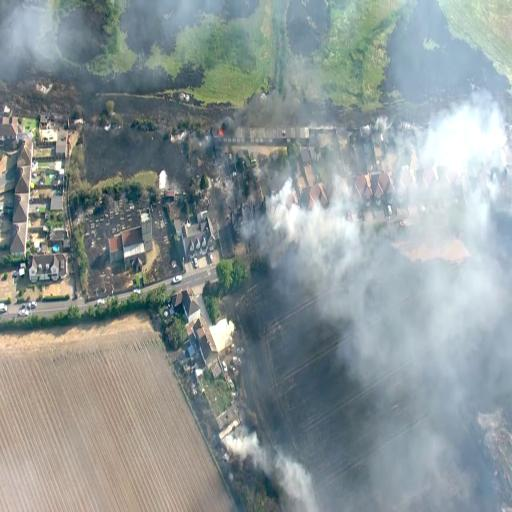smoke: (332, 253, 506, 364), (276, 198, 350, 261)
